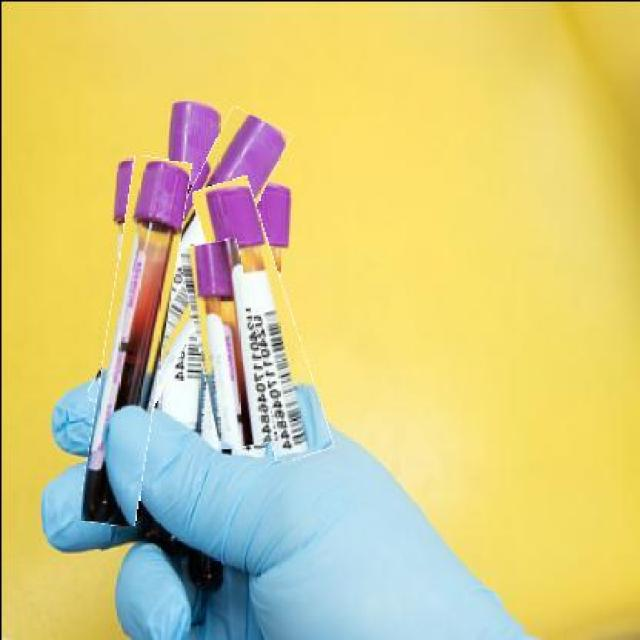Experimental-tube: (119, 103, 255, 426), (90, 154, 176, 526), (210, 174, 312, 460), (186, 238, 266, 448)
